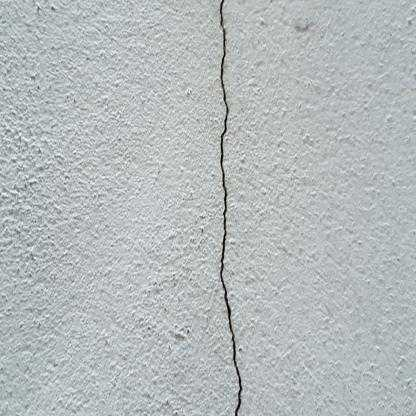crack: (220, 0, 242, 416)
